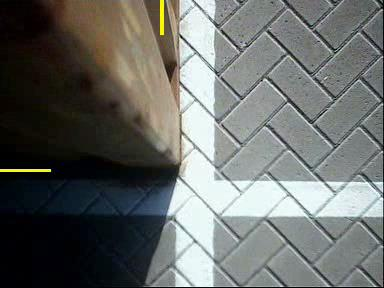groundmarker_2: (99, 121, 178, 163), (101, 1, 180, 42)
